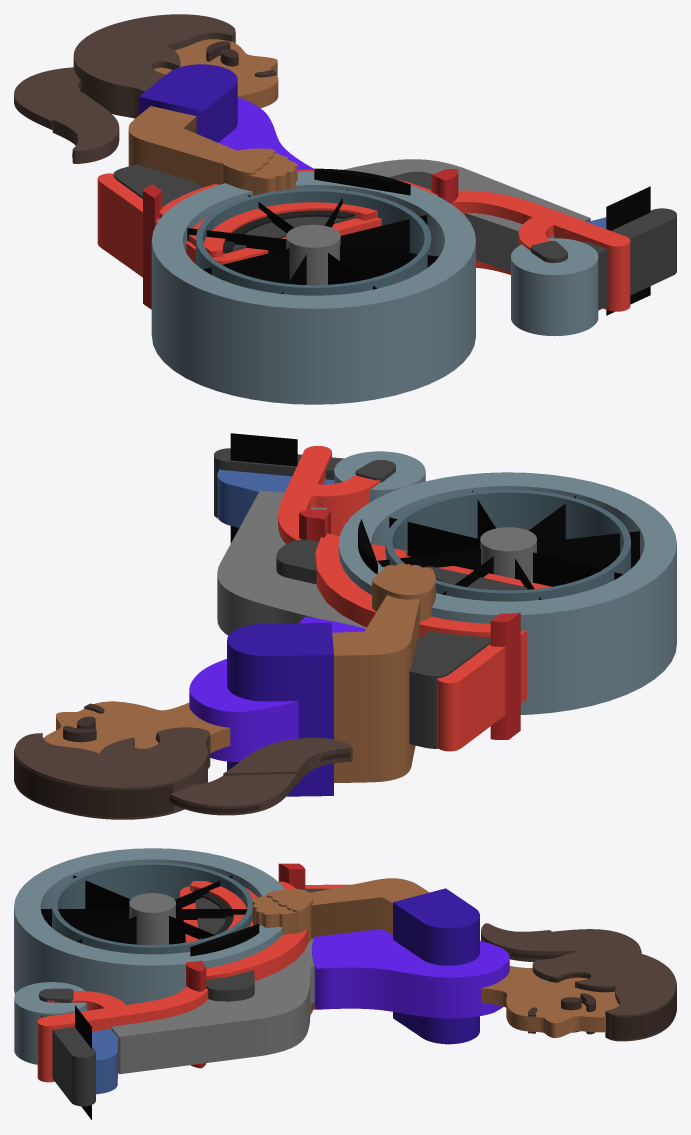
Rendered from emoji_u1f469_1f3fe_200d_1f9bd_200d_27a1.glb.
3 renders of one model, top to bottom at view 1: azimuth 30°, elevation 25°; view 2: azimuth 150°, elevation 25°; view 3: azimuth 270°, elevation 25°, orthographic. The views are drawn at different scales.
Parts seen in each view (by area): view 1: emoji_u1f469_1f3fe_200d_1f9bd_200d_27a1; view 2: emoji_u1f469_1f3fe_200d_1f9bd_200d_27a1; view 3: emoji_u1f469_1f3fe_200d_1f9bd_200d_27a1.
Boxes of the visible parts, x1,y1,x2,y2 form: emoji_u1f469_1f3fe_200d_1f9bd_200d_27a1: (14,14,676,404); emoji_u1f469_1f3fe_200d_1f9bd_200d_27a1: (14,433,676,819); emoji_u1f469_1f3fe_200d_1f9bd_200d_27a1: (14,848,676,1119).
Bounding box in the file's own units: 0.0221 × 0.0062 × 0.0322.
